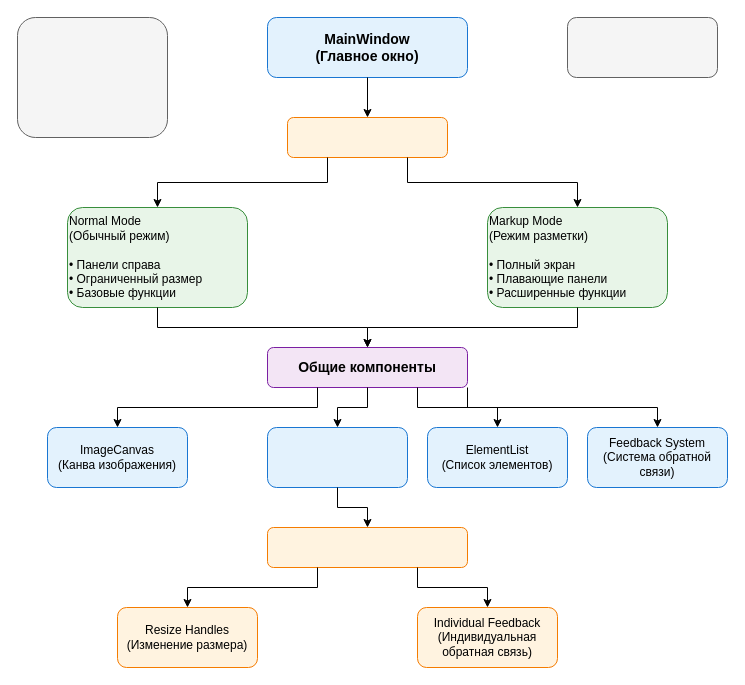
This 745x685 diagram has some shape labels left out. Here are the shapes that lost their labels. From the top down, the box of each, then its label:
(566, 16, 718, 78): Desktop UI/UX Analyzer v2.0 Дата: 07.01.2025 Автор: AI Assistant
(16, 16, 168, 138): Легенда: 🔵 Основные компоненты 🟢 Режимы работы 🟠 Новые функции 🟣 Общие элементы
(286, 116, 448, 158): Mode Switch Button (Переключатель режимов)
(266, 426, 408, 488): BoundingBox (Ограничивающие рамки)
(266, 526, 468, 568): Новые функции
